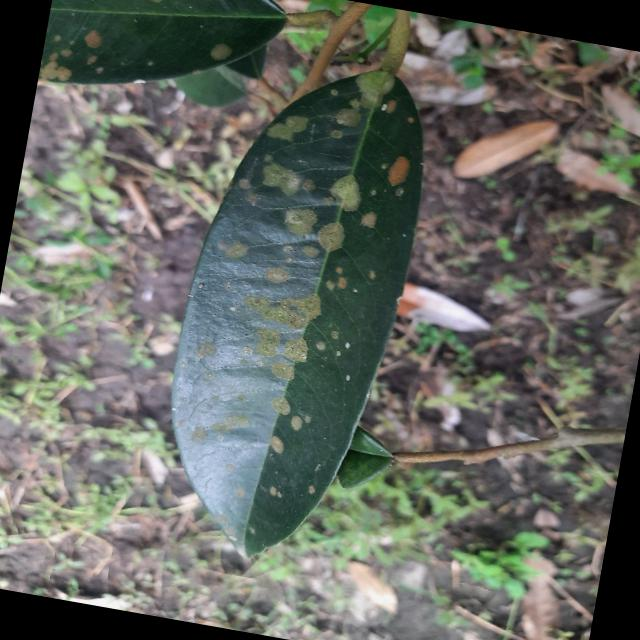Algal Leaf Spot: (133, 32, 450, 588)
